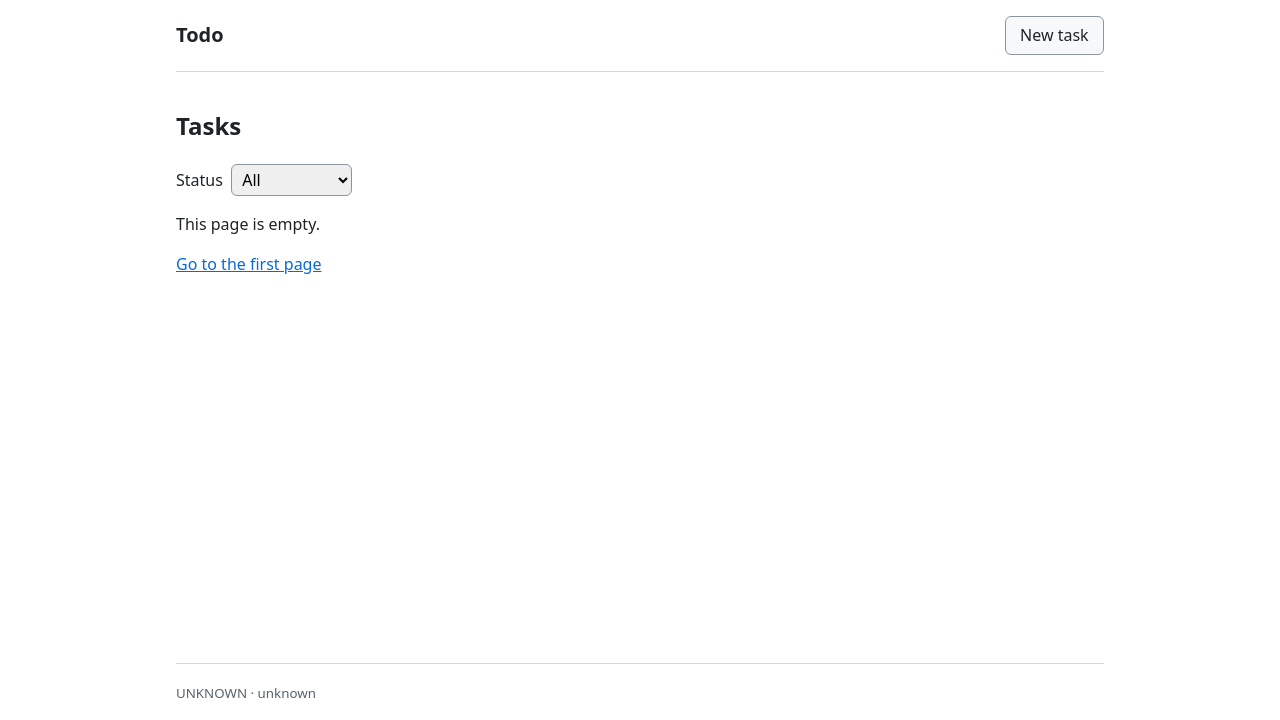
Test: SCRUM-1 task list › SCRUM-1-AC-03: an empty page beyond the last one offers a link to the first page
Check: the text "This page is empty." is shown, box [176,213,320,235]
Click the link "Go to the first page" at {"x": 249, "y": 264}, box [176,253,322,275]
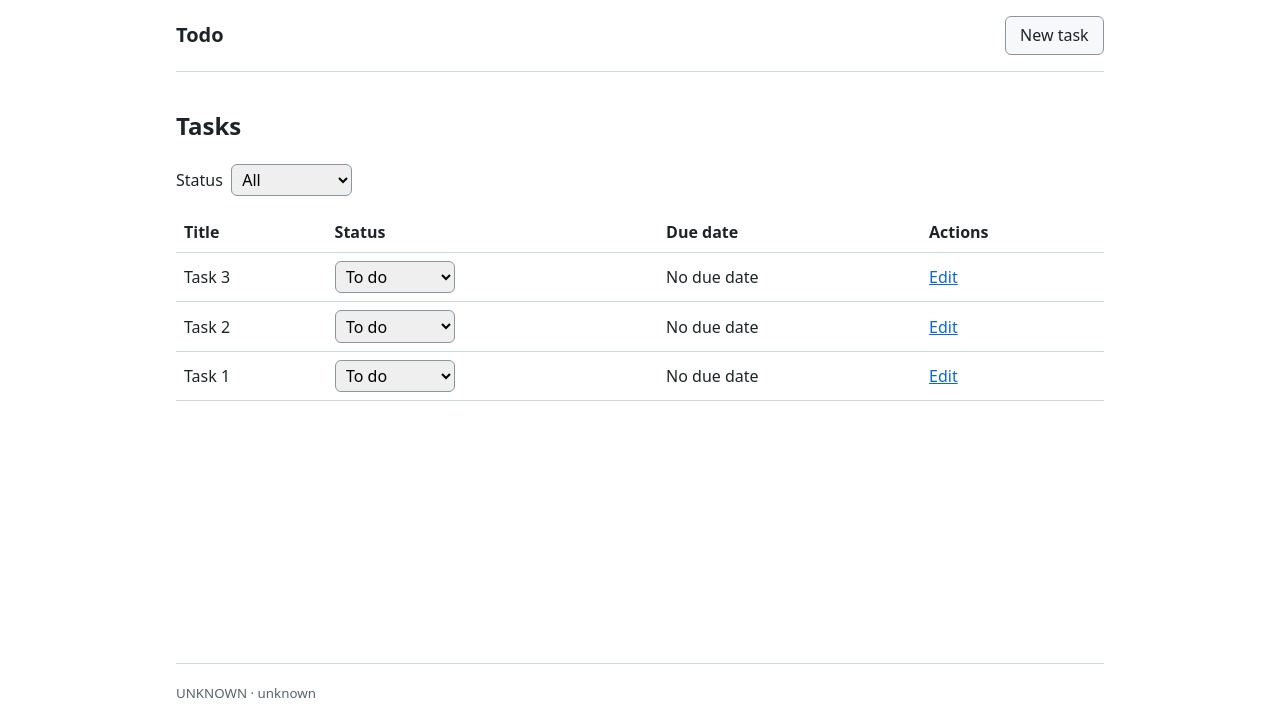
Check: the number of rows is 4, box [176,212,1104,252]; [176,253,1104,302]; [176,302,1104,351]; [176,351,1104,401]
